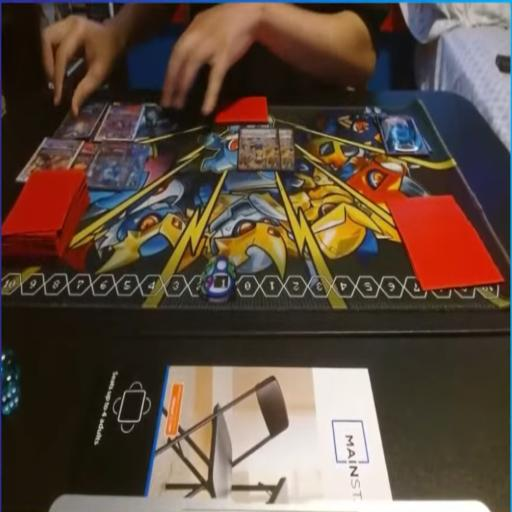card: (15, 135, 83, 188), (82, 139, 140, 193), (51, 98, 106, 138), (93, 102, 145, 144), (236, 128, 280, 167), (123, 142, 149, 198), (277, 125, 295, 173)
